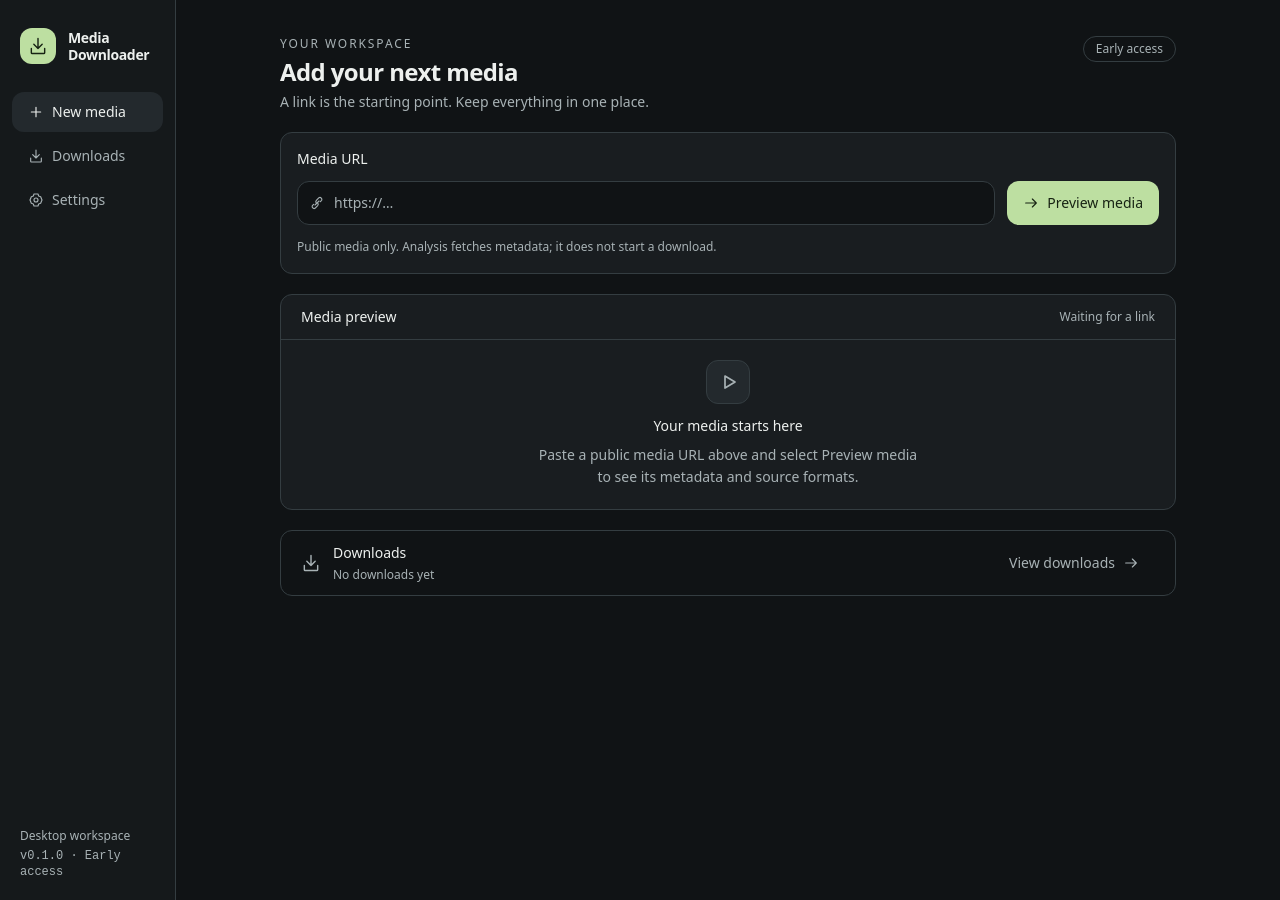
Test: desktop workspace › navigates to empty downloads, moves focus and preserves the entered URL
Type "https://media.example.org/watch" into the field at {"x": 646, "y": 203}, box x1=297 y1=181 x2=995 y2=225
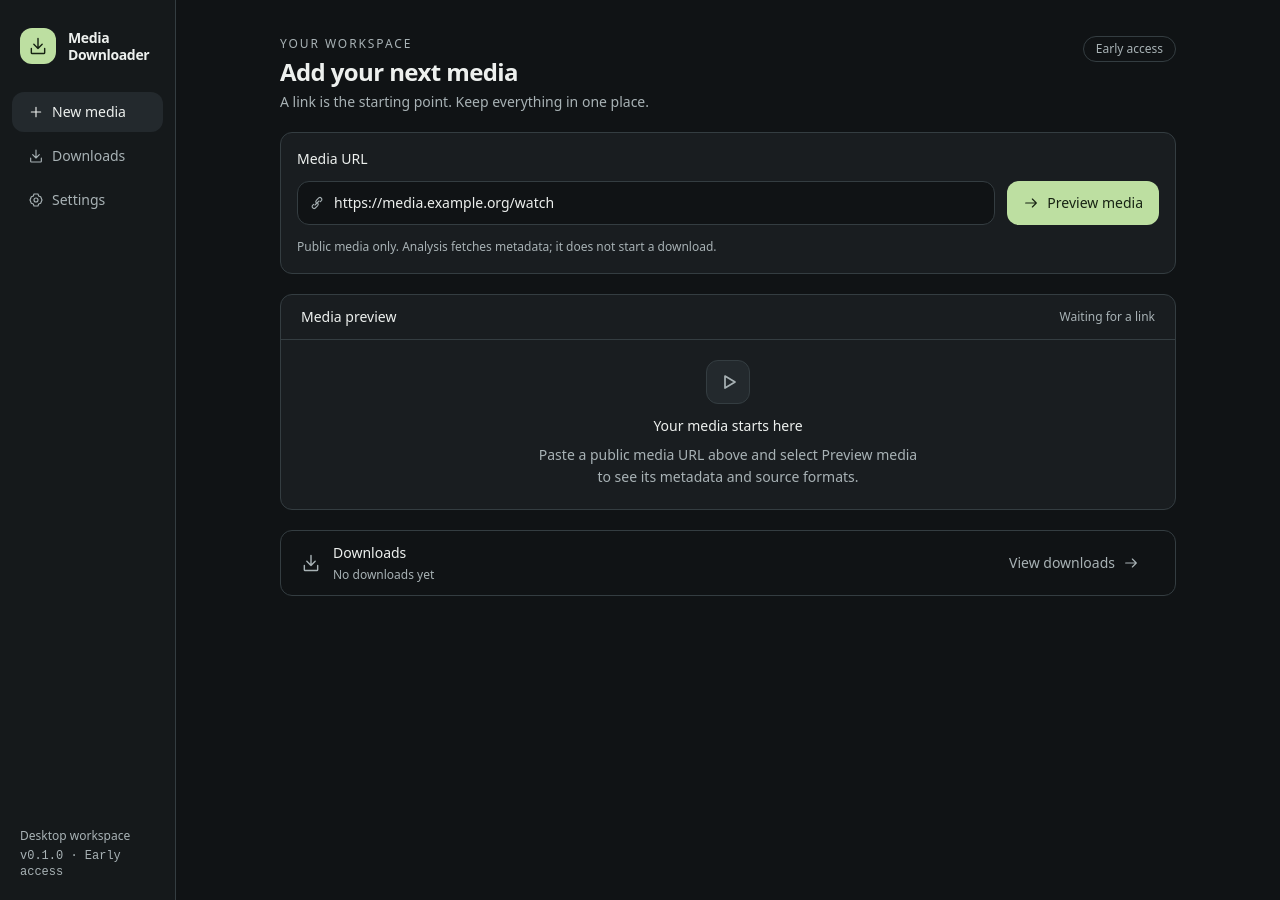
Click the button "View downloads" at {"x": 1074, "y": 563}, box x1=993 y1=543 x2=1155 y2=583
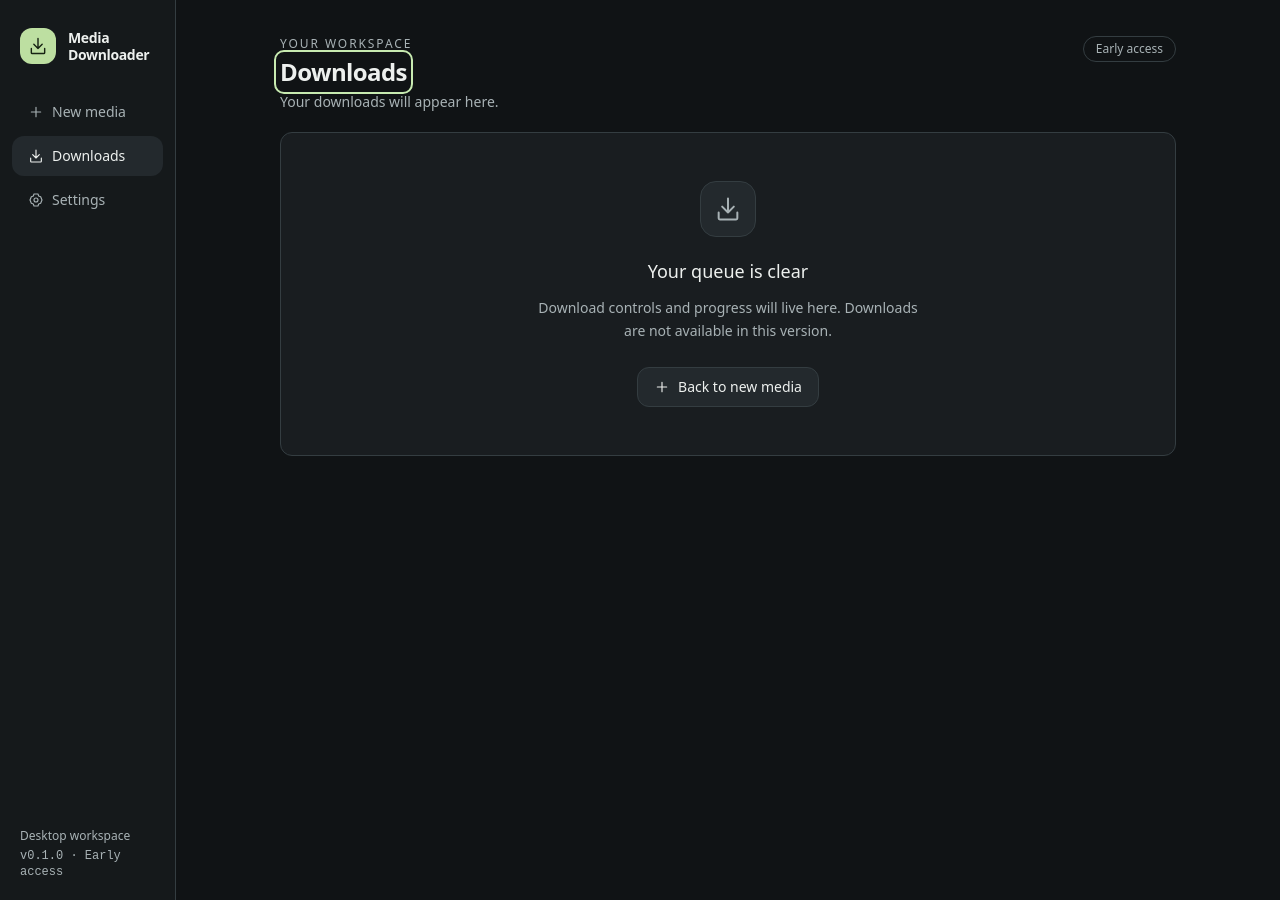
Now the heading "Your queue is clear" is shown, box x1=648 y1=259 x2=808 y2=283
Click the button "Back to new media" at {"x": 728, "y": 386}, box x1=637 y1=366 x2=819 y2=406
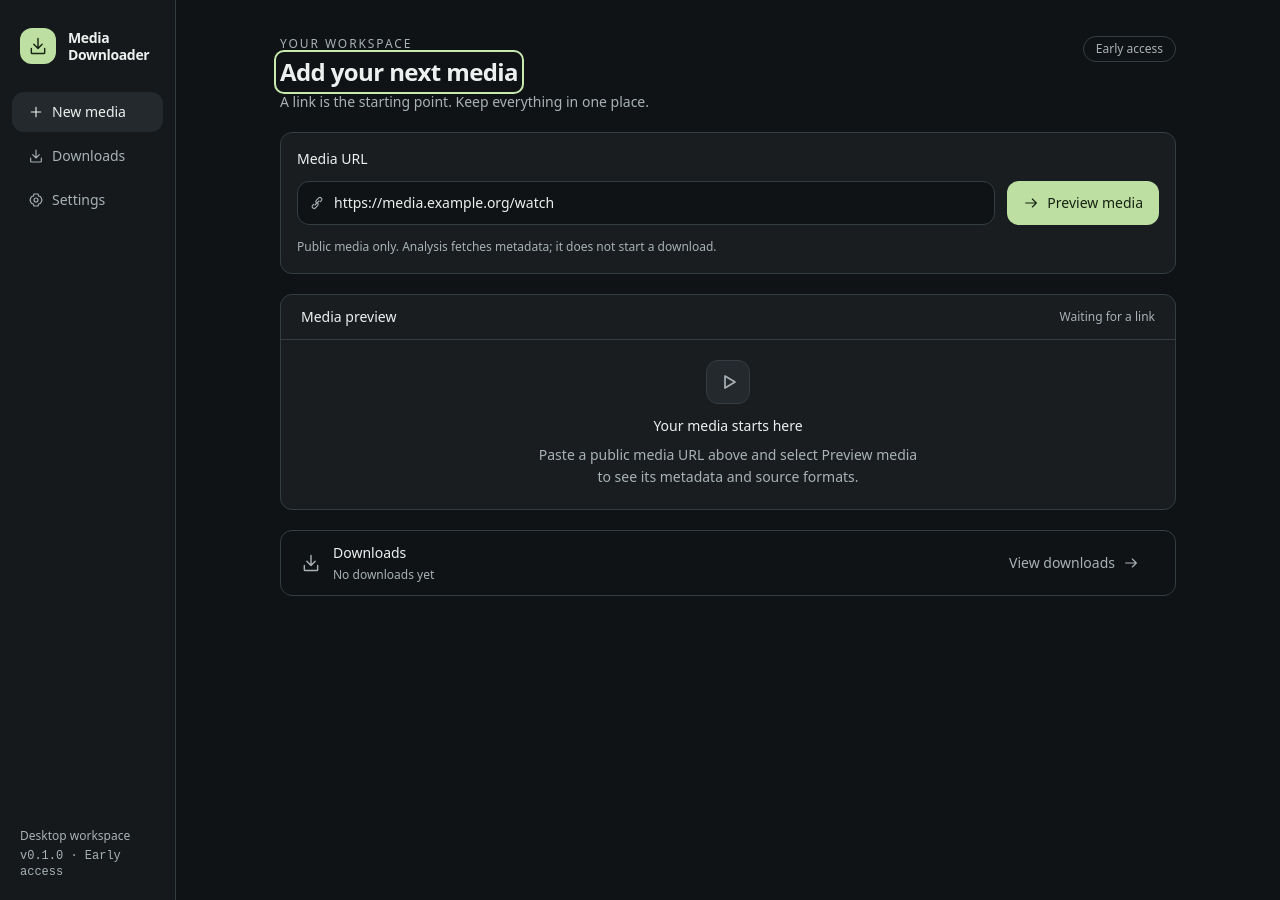
Now the field holds "https://media.example.org/watch", box x1=297 y1=181 x2=995 y2=225
